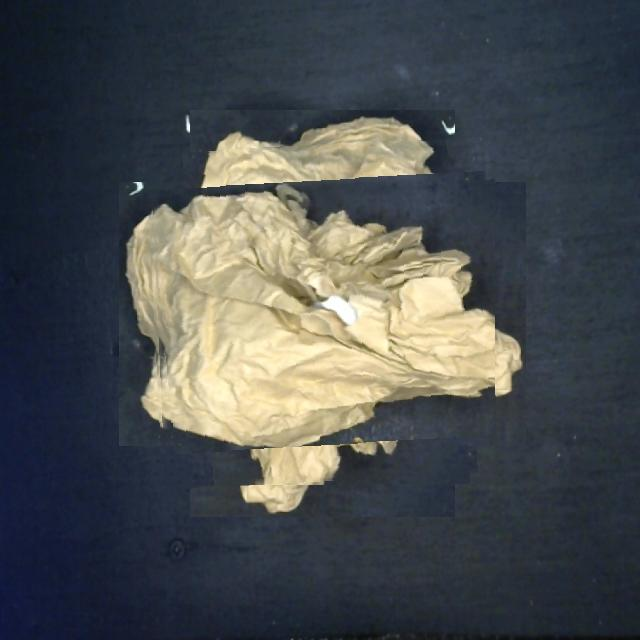biodegradable: (150, 141, 495, 486)
